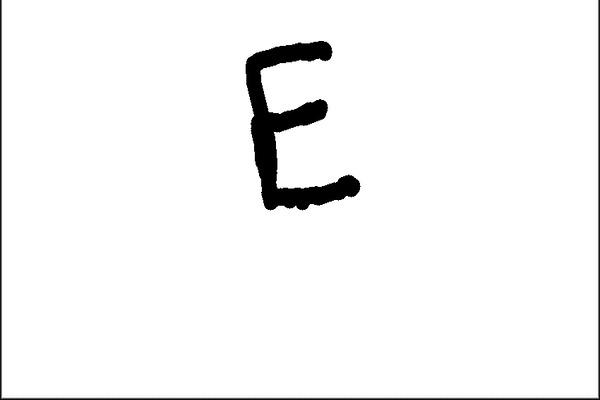E: (239, 34, 367, 213)
